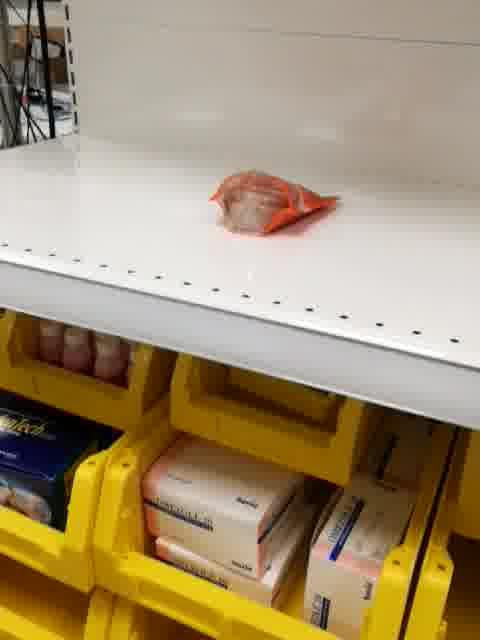whitechia: (206, 165, 340, 240)
